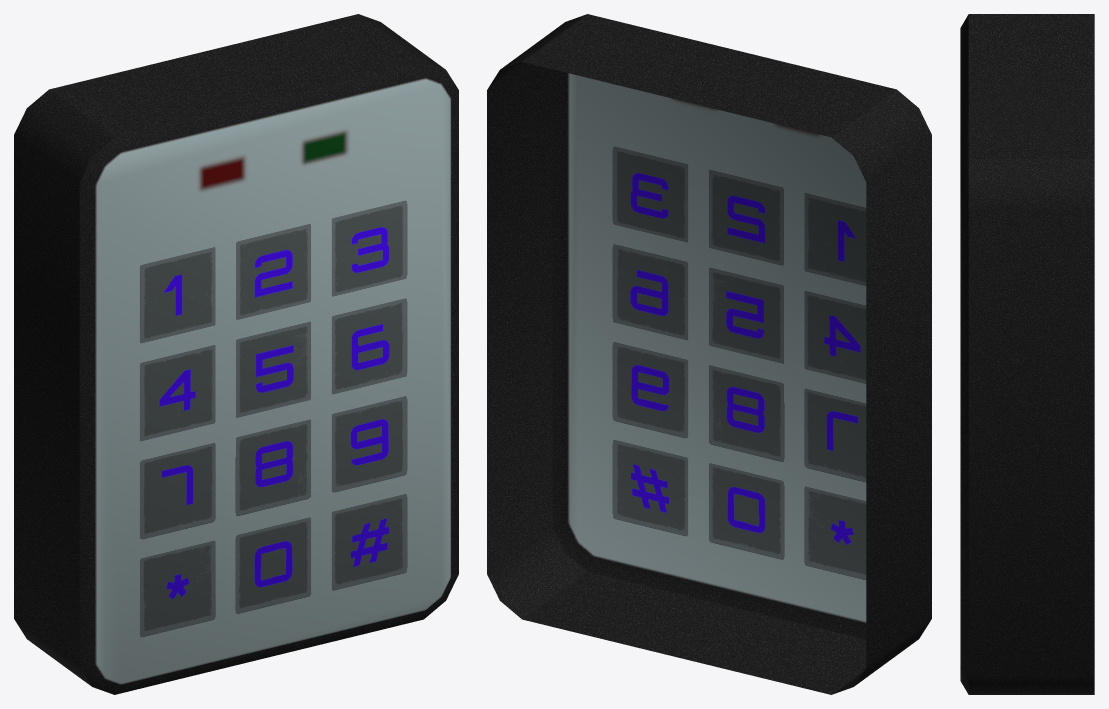
The model's file is LockCode.fbx.
The picture shows the model from 3 angles, left to right: view 1: azimuth 30°, elevation 25°; view 2: azimuth 150°, elevation 25°; view 3: azimuth 270°, elevation 25°; orthographic projection. The views are drawn at different scales.
Parts seen in each view (by area): view 1: LockCode; view 2: LockCode; view 3: LockCode.
Part boxes in pixels (x1=…): LockCode: x1=14, y1=14, x2=458, y2=694; LockCode: x1=487, y1=14, x2=931, y2=694; LockCode: x1=960, y1=14, x2=1094, y2=694.
Size of the model in its own units: 7.48 by 10.5 by 2.38.
